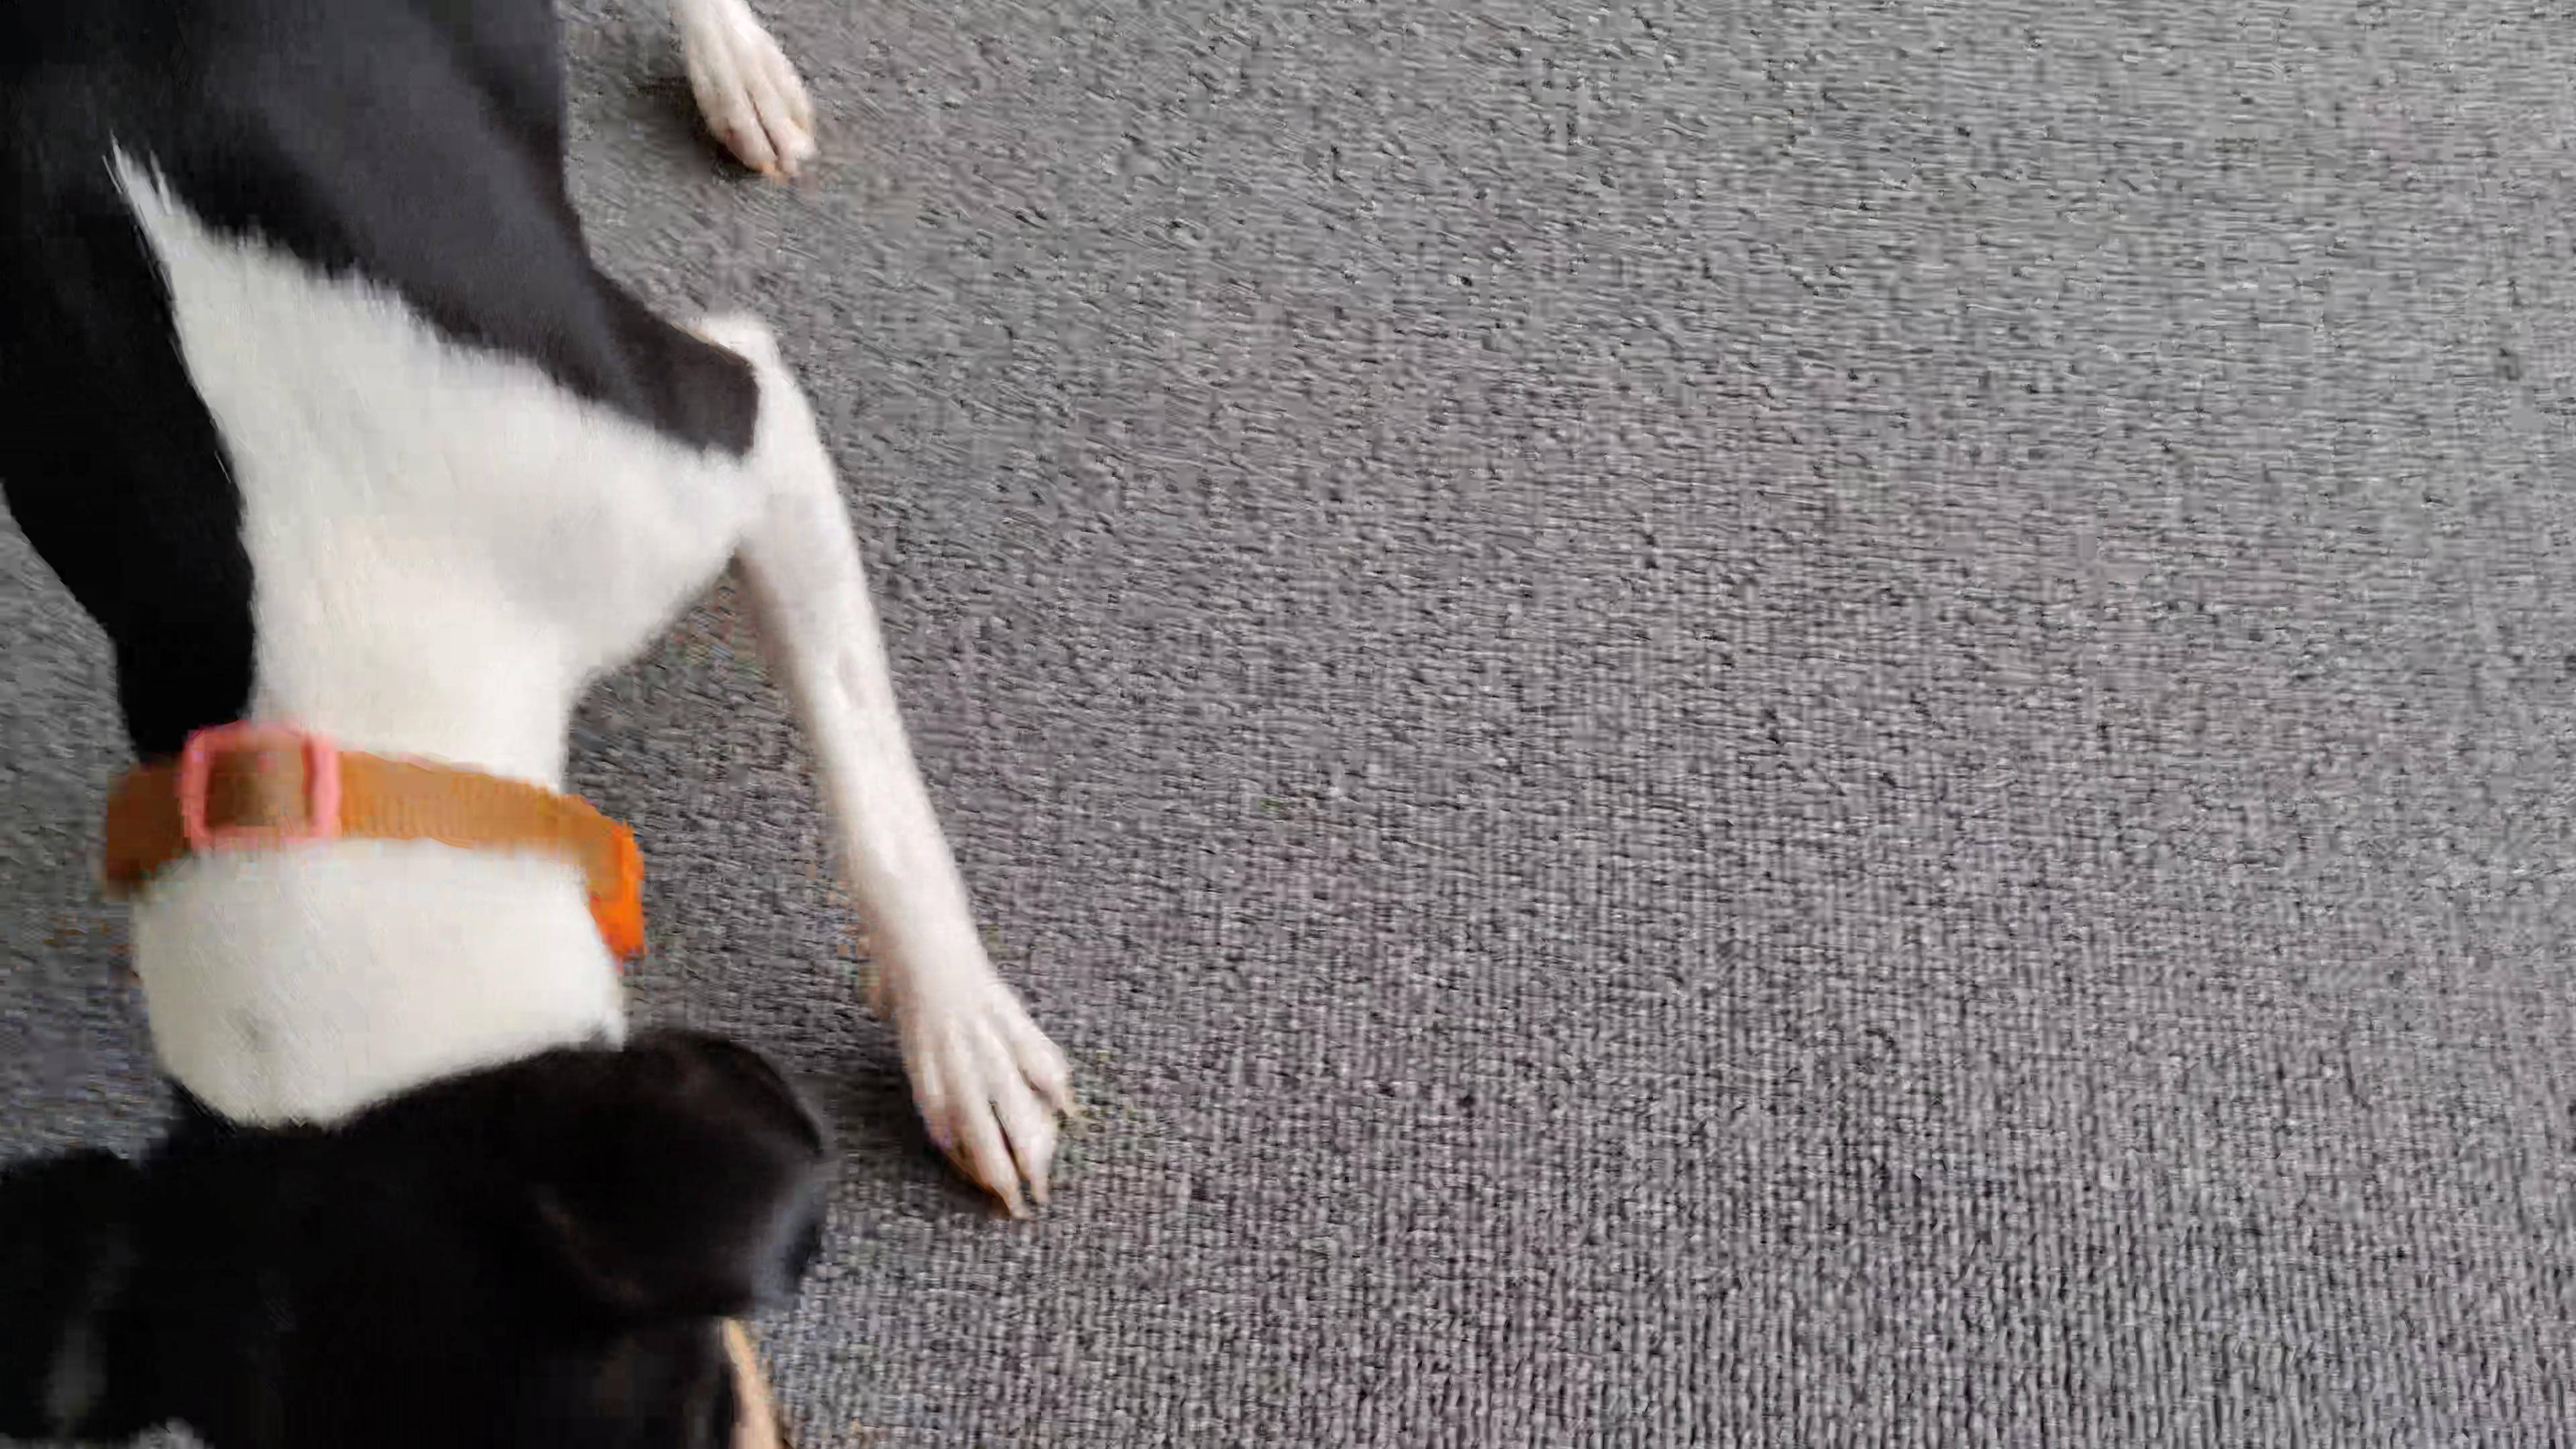Dog: (0, 0, 1115, 1449)
